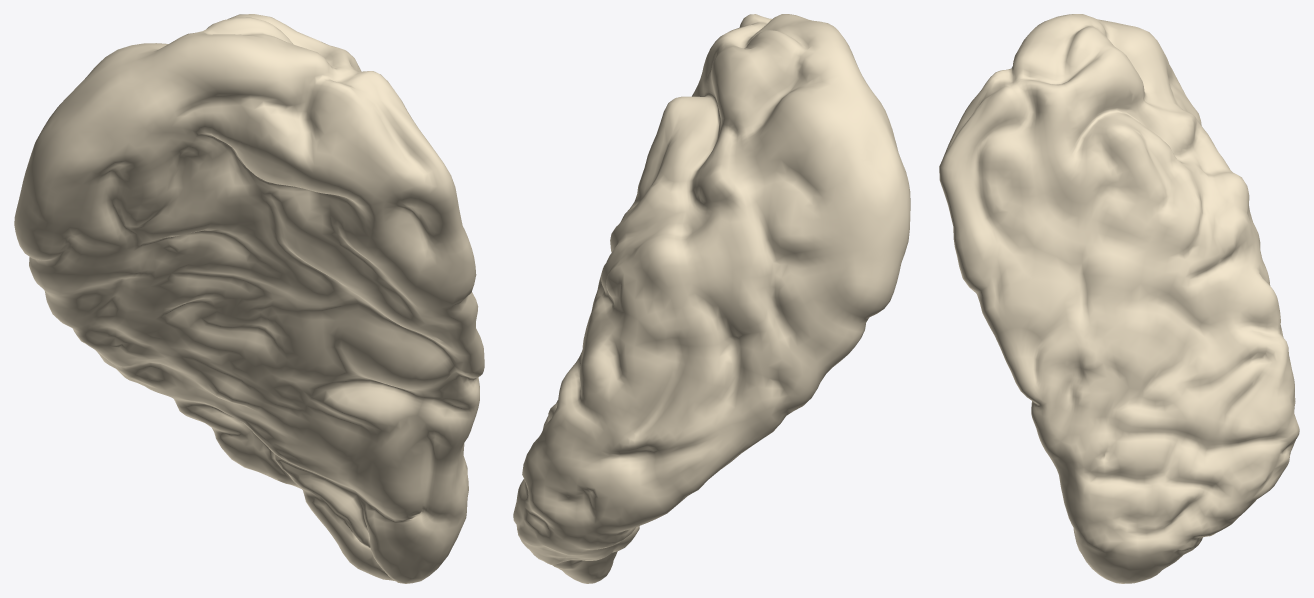
File: palatine-tonsil.glb
3 renders of one model, left to right at view 1: azimuth 30°, elevation 25°; view 2: azimuth 150°, elevation 25°; view 3: azimuth 270°, elevation 25°, orthographic. The views are drawn at different scales.
Visible parts, largest first — view 1: VH_M_palatine_tonsil_L; view 2: VH_M_palatine_tonsil_L; view 3: VH_M_palatine_tonsil_L.
Boxes of the visible parts, x1,y1,x2,y2 form: VH_M_palatine_tonsil_L: [14, 14, 484, 583]; VH_M_palatine_tonsil_L: [513, 14, 910, 583]; VH_M_palatine_tonsil_L: [939, 14, 1299, 583].
Bounding box in the file's own units: 0.0165 × 0.0242 × 0.0164.
